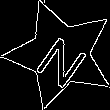N_NE: (28, 22, 92, 87)
